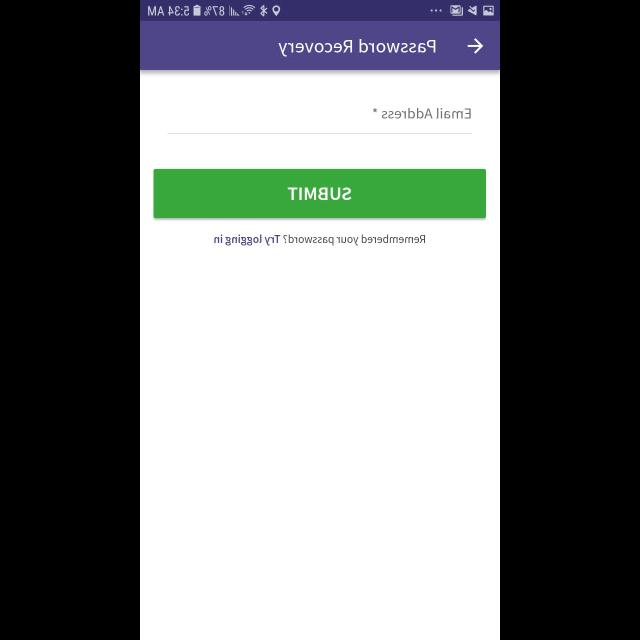icon: (467, 38, 483, 54)
input: (168, 108, 472, 136)
text: (278, 39, 436, 57), (213, 234, 424, 246), (373, 108, 471, 120)
textbutton: (154, 170, 486, 218)
uppertaskbar: (140, 1, 500, 22)
